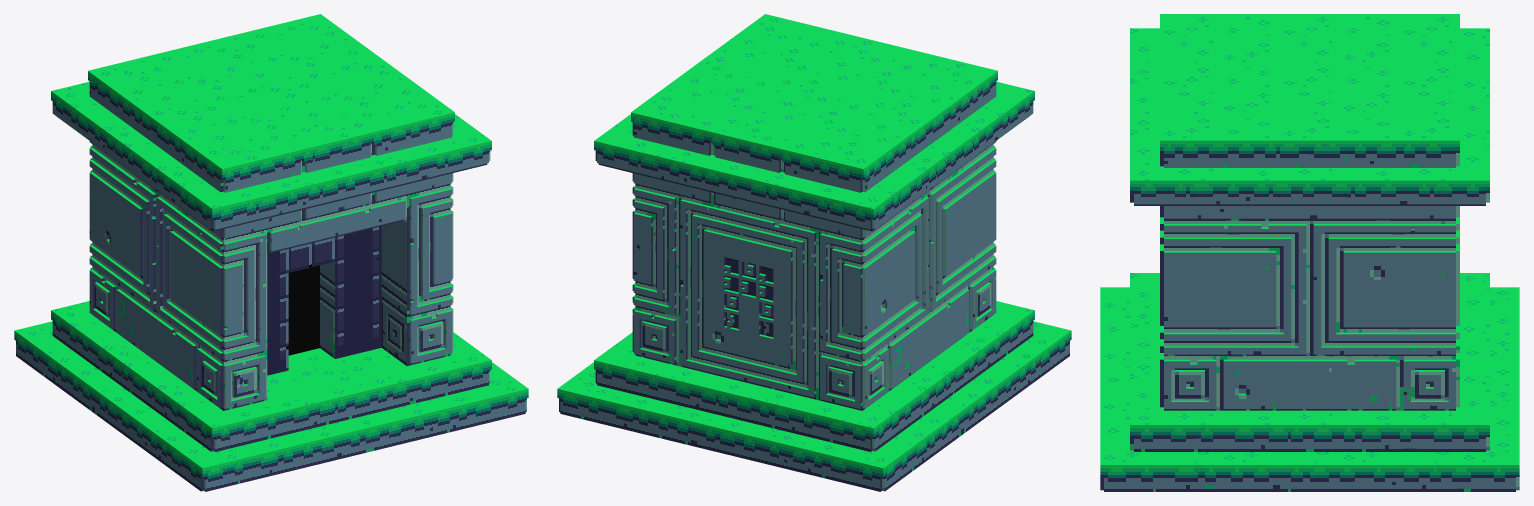
File: mausoleum_cryptao.fezao.glb
The picture shows the model from 3 angles, left to right: view 1: azimuth 30°, elevation 25°; view 2: azimuth 150°, elevation 25°; view 3: azimuth 270°, elevation 25°; orthographic projection. The views are drawn at different scales.
Parts seen in each view (by area): view 1: MAUSOLEUM_CRYPTAO; view 2: MAUSOLEUM_CRYPTAO; view 3: MAUSOLEUM_CRYPTAO.
Boxes of the visible parts, left/top/right/bottom form: MAUSOLEUM_CRYPTAO: left=14, top=14, right=528, bottom=491; MAUSOLEUM_CRYPTAO: left=557, top=14, right=1071, bottom=491; MAUSOLEUM_CRYPTAO: left=1100, top=14, right=1519, bottom=491.
Size of the model in its own units: 7 by 6 by 7.
Materials: 1 (1 with a texture image).
